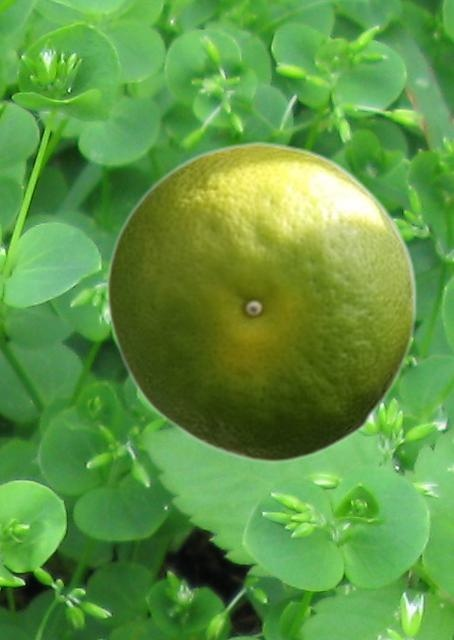dalandan: (105, 140, 416, 463)
